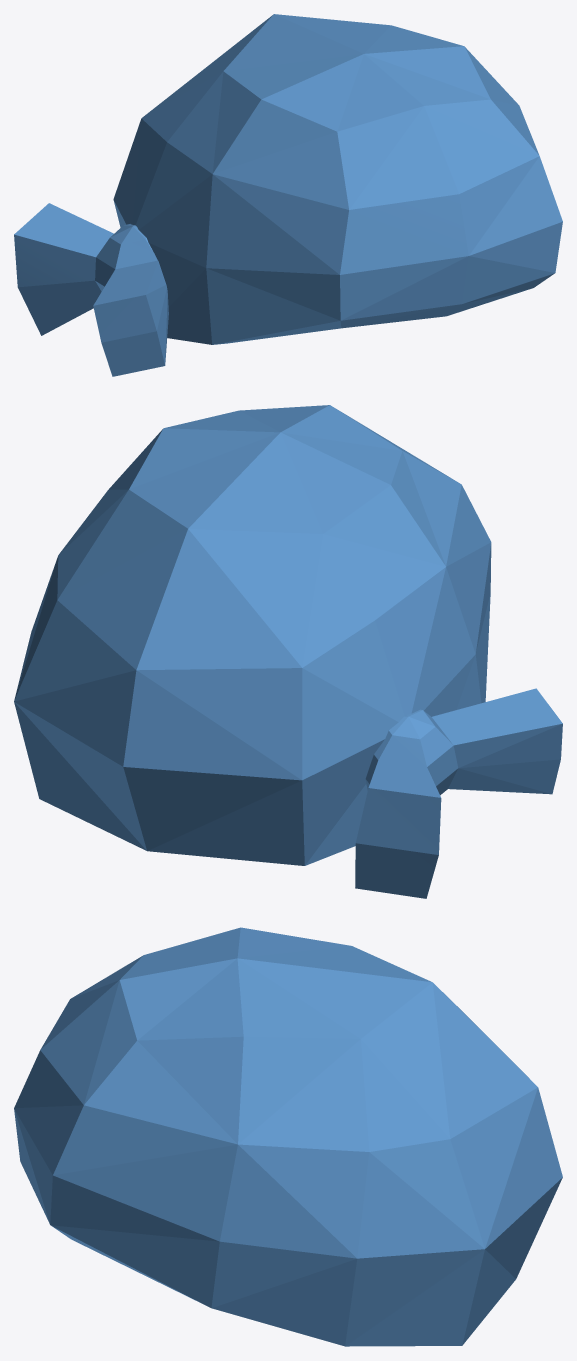
File: helmCastAway.fbx
3 renders of one model, top to bottom at view 1: azimuth 30°, elevation 25°; view 2: azimuth 150°, elevation 25°; view 3: azimuth 270°, elevation 25°, orthographic. The views are drawn at different scales.
Visible parts, largest first — view 1: helmCastAway; view 2: helmCastAway; view 3: helmCastAway.
Part boxes in pixels (<box>): helmCastAway: <box>14,14,562,376</box>; helmCastAway: <box>14,405,562,898</box>; helmCastAway: <box>14,927,562,1346</box>.
Bounding box in the file's own units: 0.6465 × 0.4211 × 0.6285.
